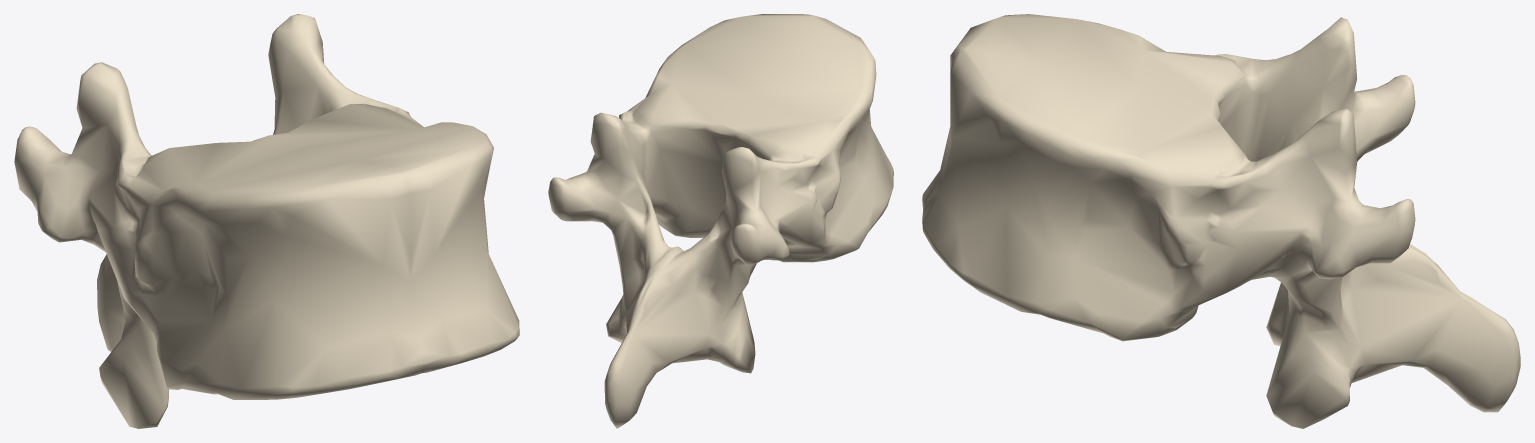
The model's file is vertebra-t12.glb.
3 views of the same model, side by side, from view 1: azimuth 30°, elevation 25°; view 2: azimuth 150°, elevation 25°; view 3: azimuth 270°, elevation 25° (orthographic). The views are drawn at different scales.
Parts seen in each view (by area): view 1: Vertebra T12; view 2: Vertebra T12; view 3: Vertebra T12.
Boxes of the visible parts, box(x1,y1,x2,y2) form: Vertebra T12: box(14, 14, 519, 428); Vertebra T12: box(548, 14, 893, 428); Vertebra T12: box(922, 14, 1520, 428).
Size of the model in its own units: 0.0467 by 0.054 by 0.0807.
